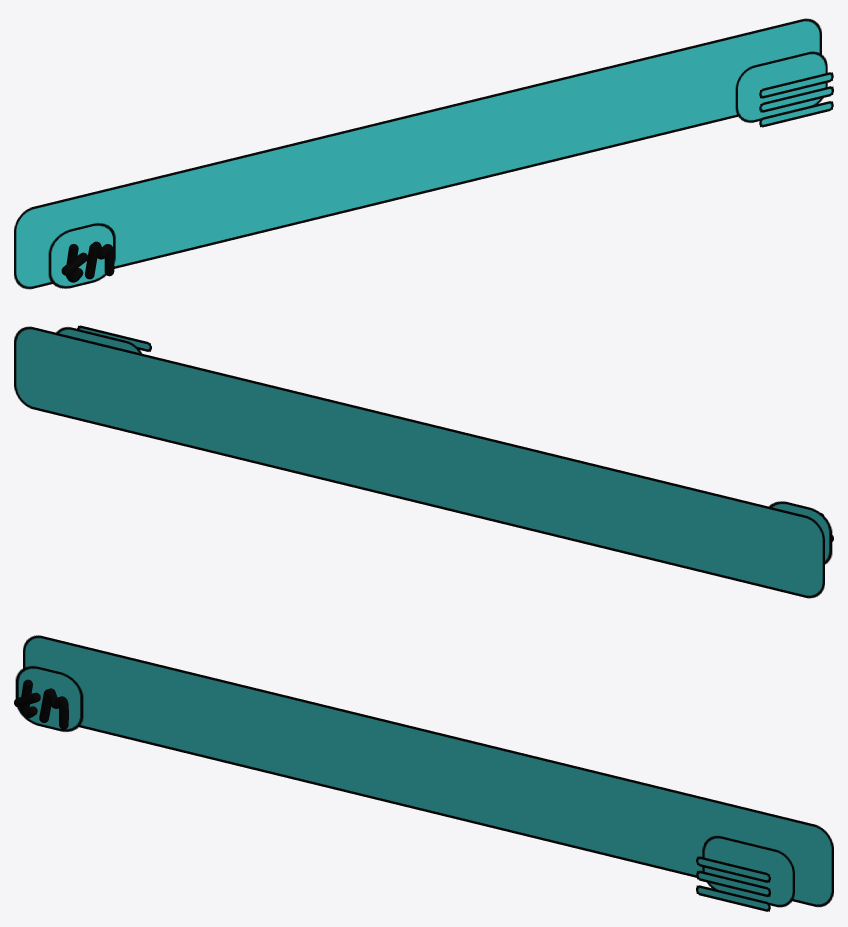
The model's file is navbar2.glb.
The picture shows the model from 3 angles, top to bottom: view 1: azimuth 30°, elevation 25°; view 2: azimuth 150°, elevation 25°; view 3: azimuth 330°, elevation 25°; orthographic projection.
Parts seen in each view (by area): view 1: mesh_id26, mesh_id35, mesh_id82, mesh_id69, mesh_id62, mesh_id75; view 2: mesh_id26, mesh_id82, mesh_id35; view 3: mesh_id26, mesh_id35, mesh_id82, mesh_id75, mesh_id62, mesh_id69.
Part boxes in pixels (left/top/right/bottom): mesh_id26: left=14, top=18, right=821, bottom=289; mesh_id35: left=735, top=51, right=827, bottom=122; mesh_id82: left=48, top=223, right=115, bottom=288; mesh_id69: left=759, top=86, right=833, bottom=112; mesh_id62: left=759, top=72, right=833, bottom=98; mesh_id75: left=759, top=101, right=833, bottom=127; mesh_id26: left=14, top=326, right=824, bottom=598; mesh_id82: left=768, top=501, right=832, bottom=564; mesh_id35: left=56, top=326, right=141, bottom=353; mesh_id26: left=23, top=635, right=833, bottom=907; mesh_id35: left=702, top=835, right=794, bottom=907; mesh_id82: left=15, top=666, right=83, bottom=731; mesh_id75: left=696, top=885, right=770, bottom=911; mesh_id62: left=696, top=856, right=770, bottom=882; mesh_id69: left=696, top=870, right=770, bottom=897.
Size of the model in its own units: 1.05 by 0.1015 by 0.0838.
Materials: 10 (10 with a texture image).
